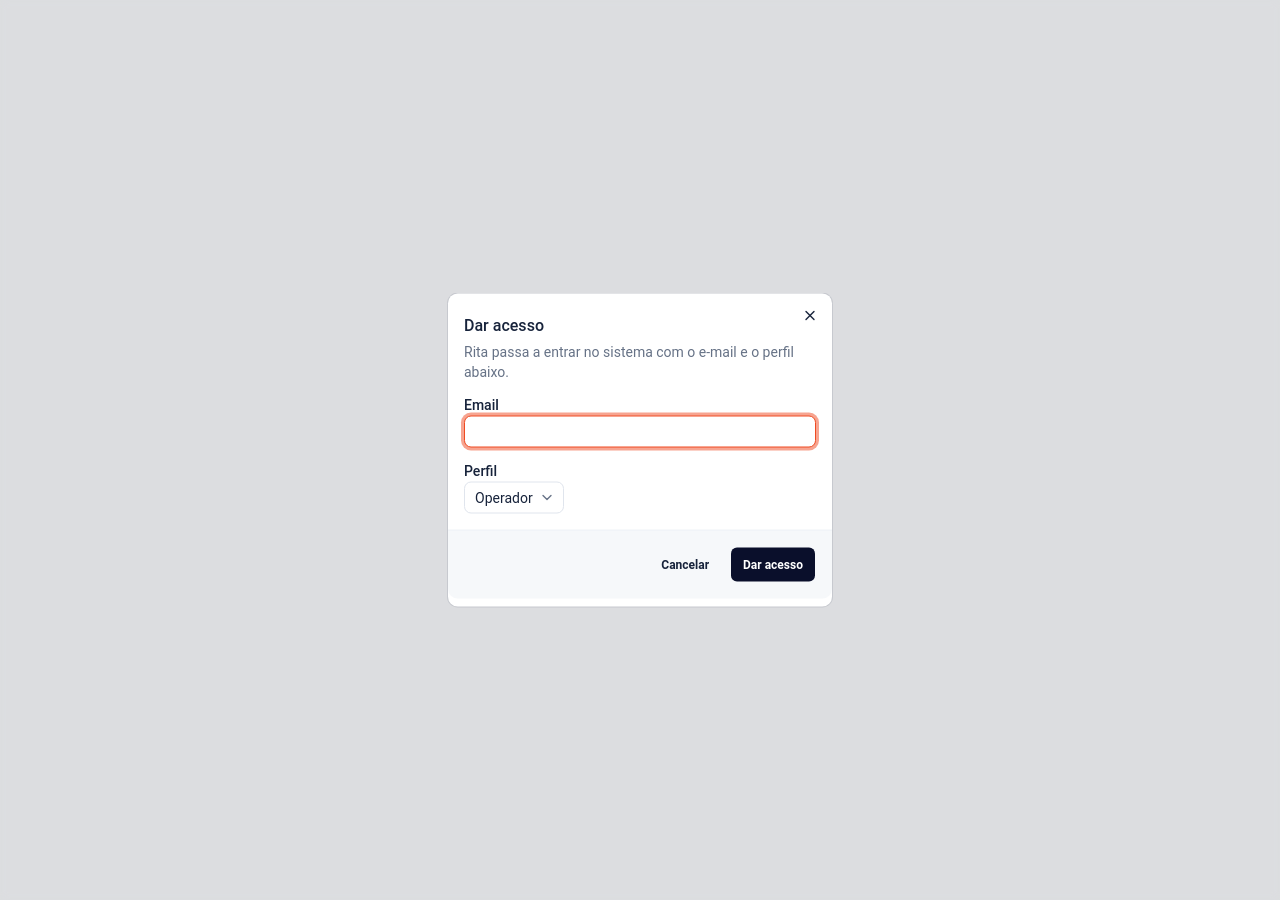
it: GrantAccessDialog › não envia sem e-mail
The width and height of the screenshot is (1280, 900).
Click the button "Dar acesso": x=773, y=564 [730,546,816,582]
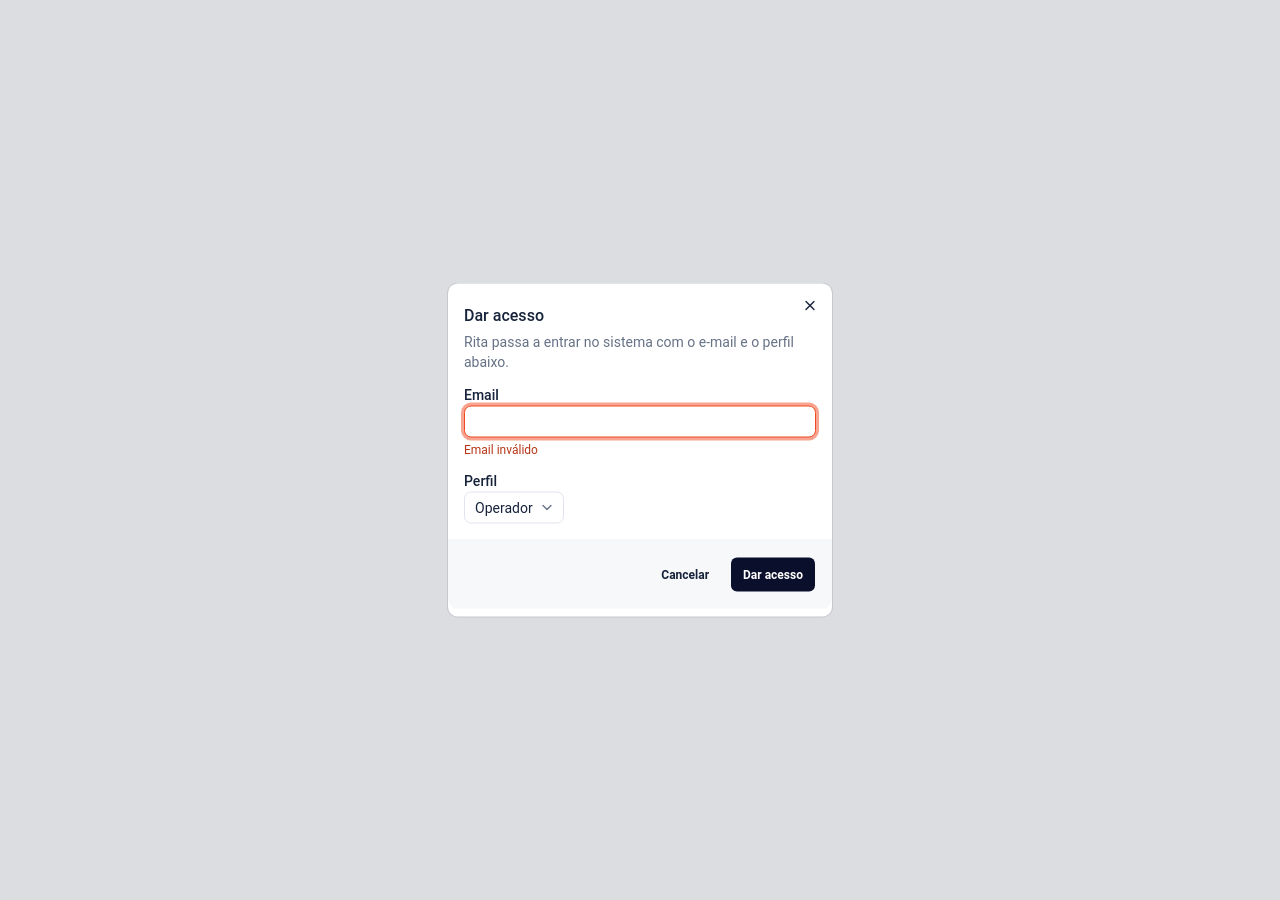
Expected: the text "Email inválido" is shown, [464,442,538,456]
